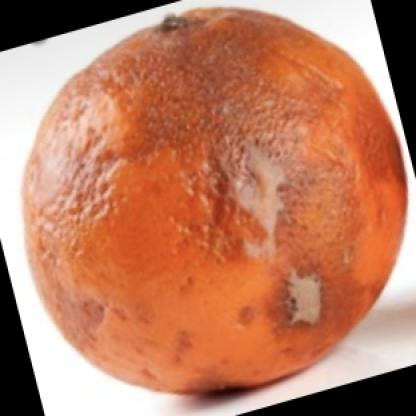rotten: (28, 15, 411, 386)
